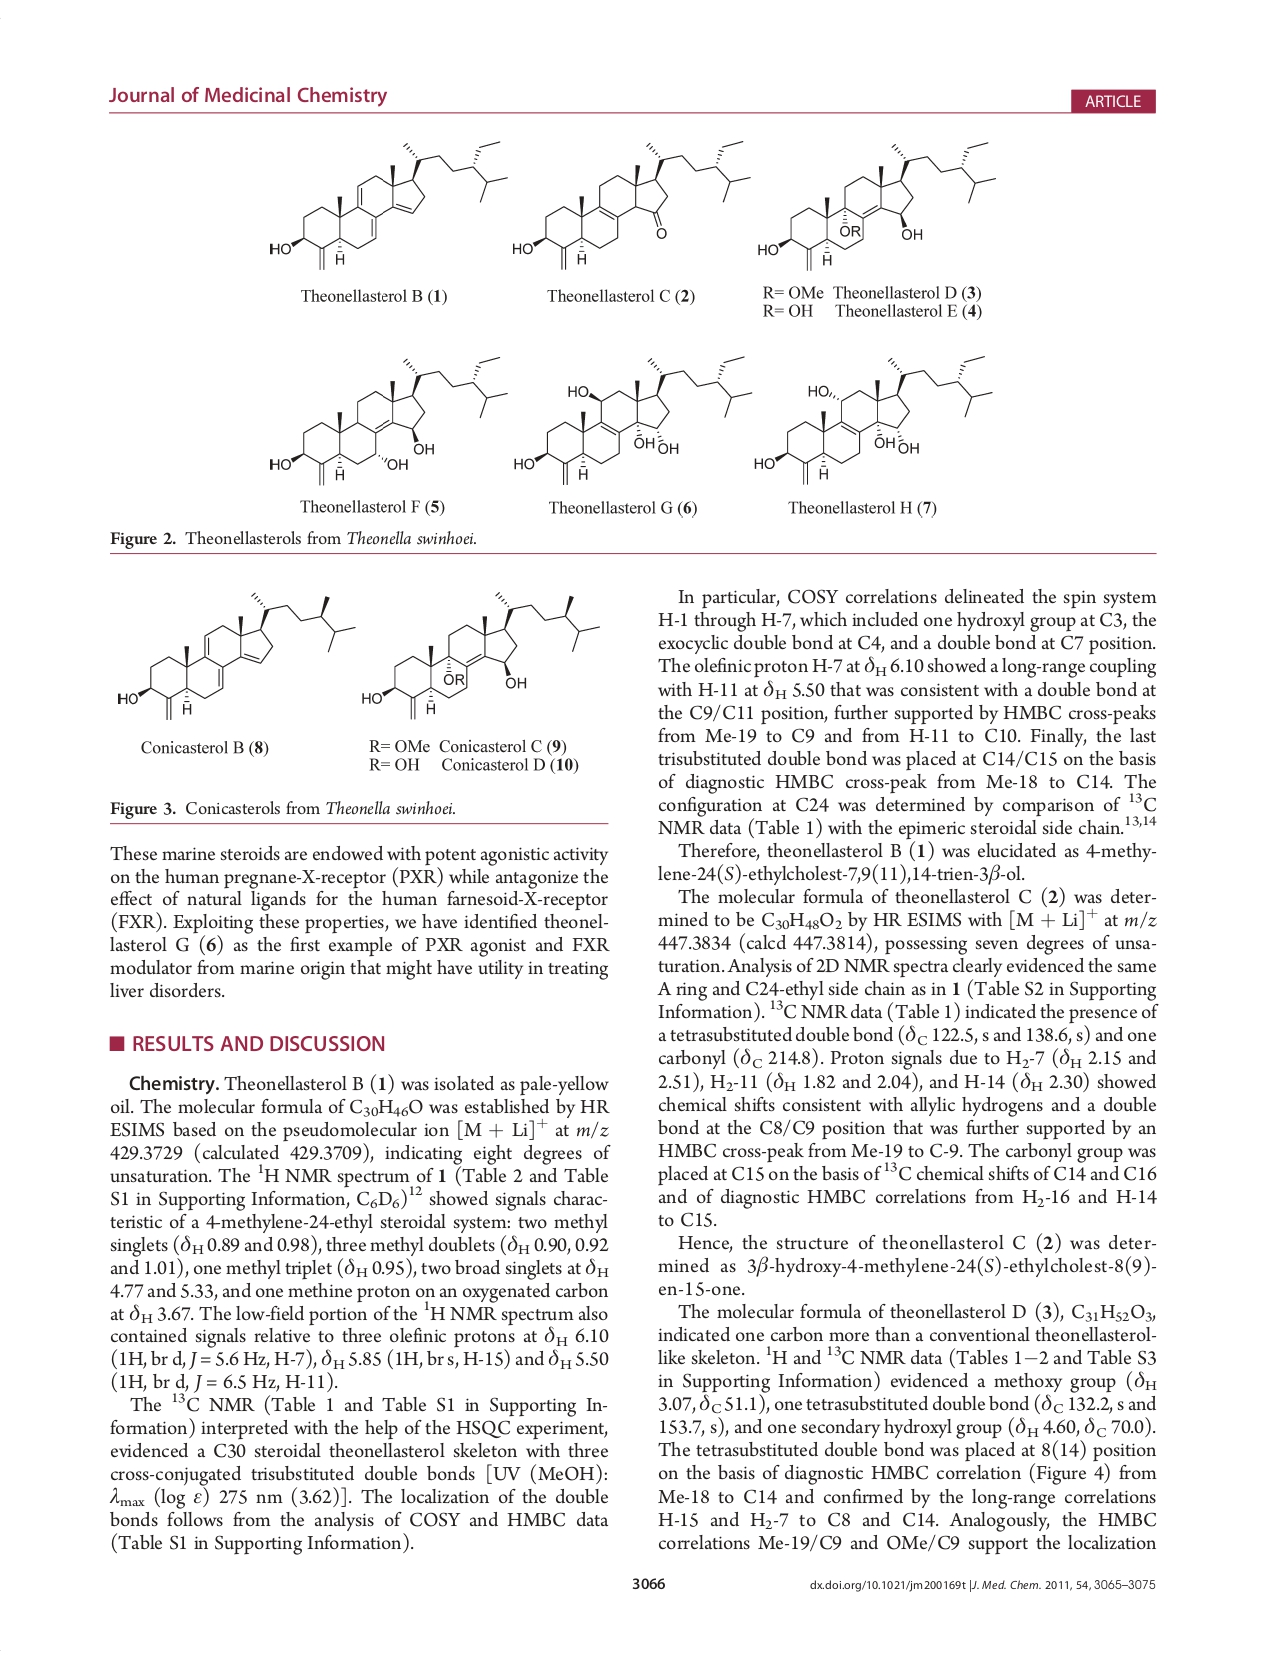exist_molecular: (269, 137, 509, 273), (511, 138, 753, 273), (757, 138, 997, 273), (751, 354, 993, 487), (511, 354, 753, 485), (267, 354, 509, 485), (360, 589, 601, 721), (114, 592, 355, 722)
